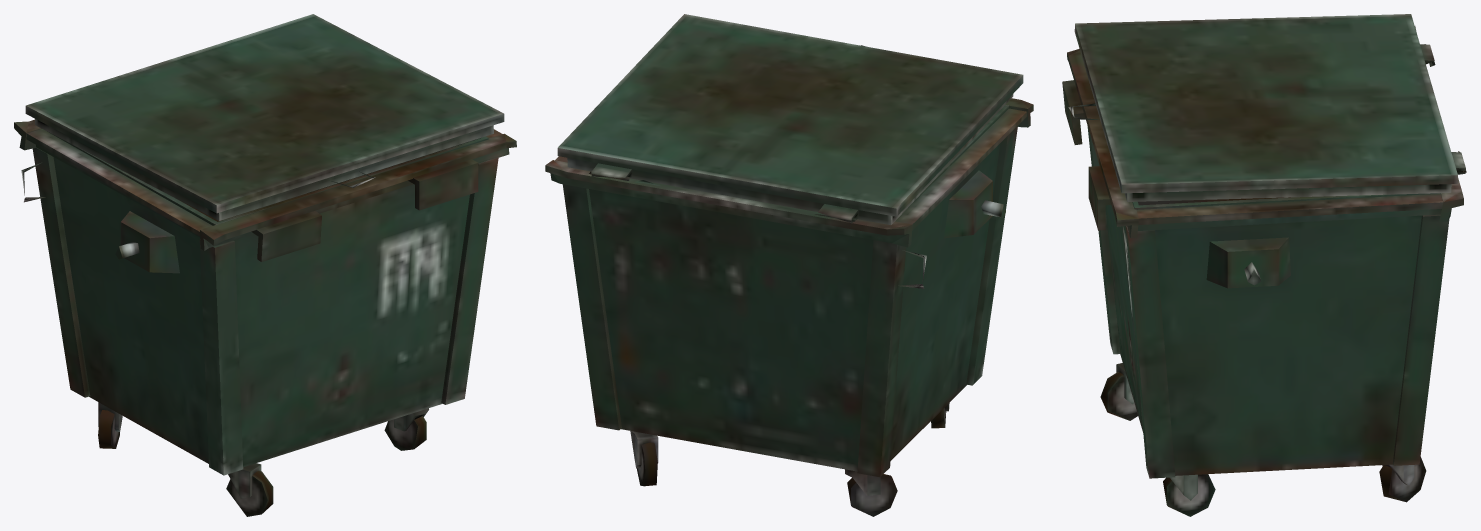
Rendered from bay-trash-can.lod0.glb.
3 views of the same model, side by side, from view 1: azimuth 30°, elevation 25°; view 2: azimuth 150°, elevation 25°; view 3: azimuth 270°, elevation 25° (orthographic). The views are drawn at different scales.
Visible parts, largest first — view 1: trash_can_finish_trash_can_mat_0; view 2: trash_can_finish_trash_can_mat_0; view 3: trash_can_finish_trash_can_mat_0.
Boxes of the visible parts, x1=… form: trash_can_finish_trash_can_mat_0: x1=14, y1=14, x2=516, y2=516; trash_can_finish_trash_can_mat_0: x1=545, y1=14, x2=1033, y2=516; trash_can_finish_trash_can_mat_0: x1=1062, y1=14, x2=1466, y2=516.
Bounding box in the file's own units: 1.26 × 1.1 × 1.11.
1 material, 1 textured.
